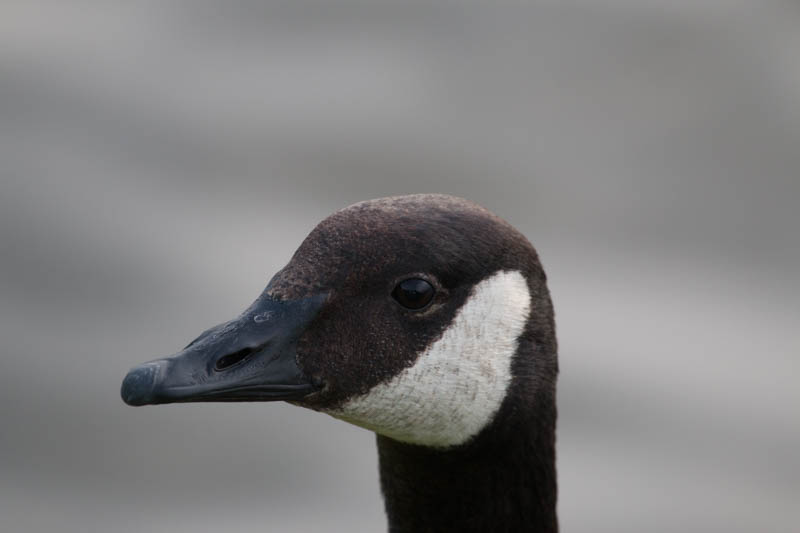goose-head: (121, 193, 558, 453)
